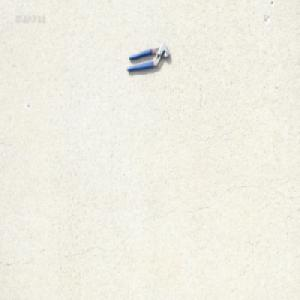Pliers: (125, 41, 170, 72)
